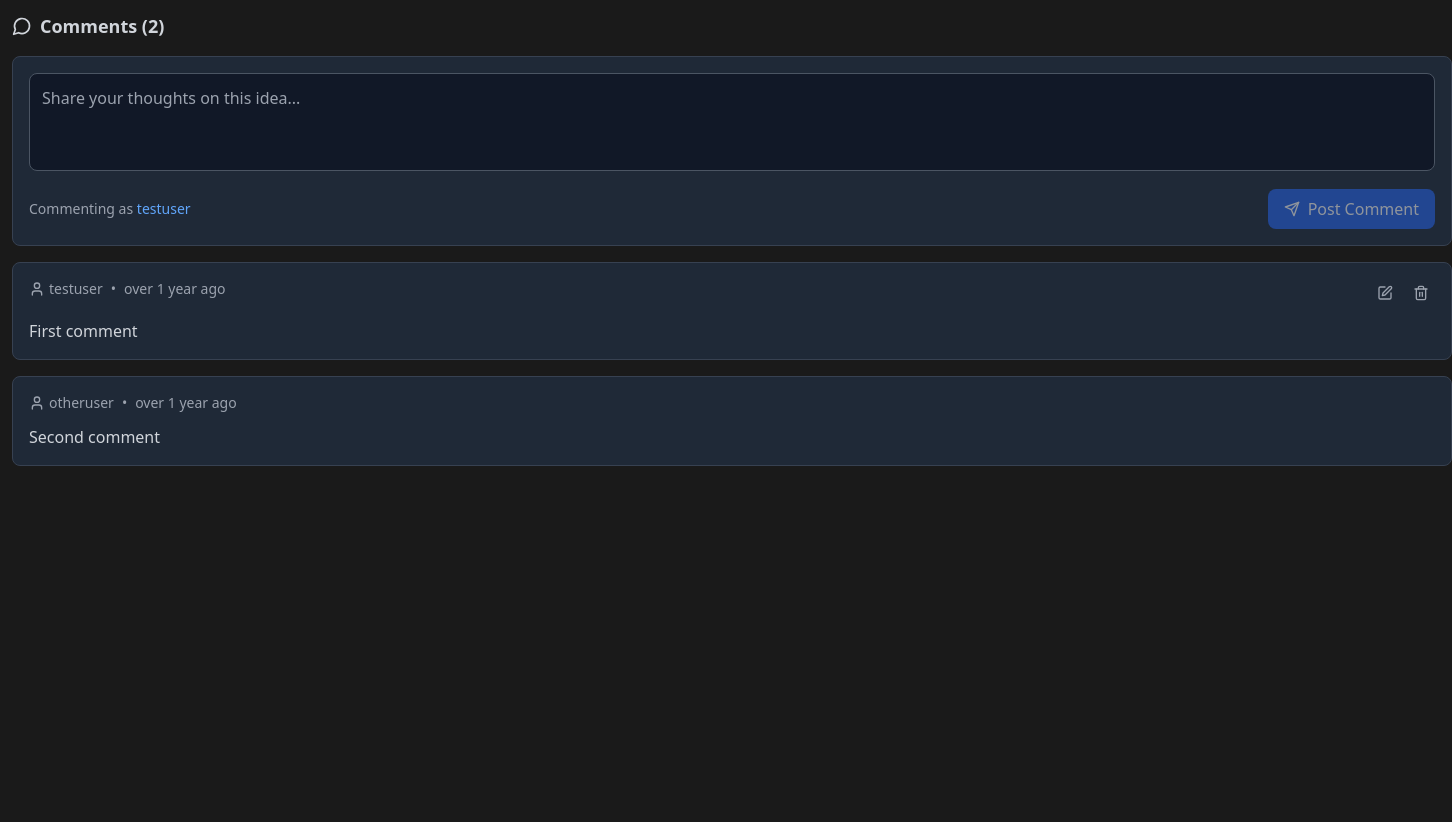
Comments System Integration Tests › should edit a comment successfully
This screenshot has width=1452, height=822.
Expected: the text "First comment" is shown, [29,320,138,342]
# Click edit button on the first comment (user's own comment)
Click the button titled "Edit comment" at (1385, 293), box [1371,279,1399,307]
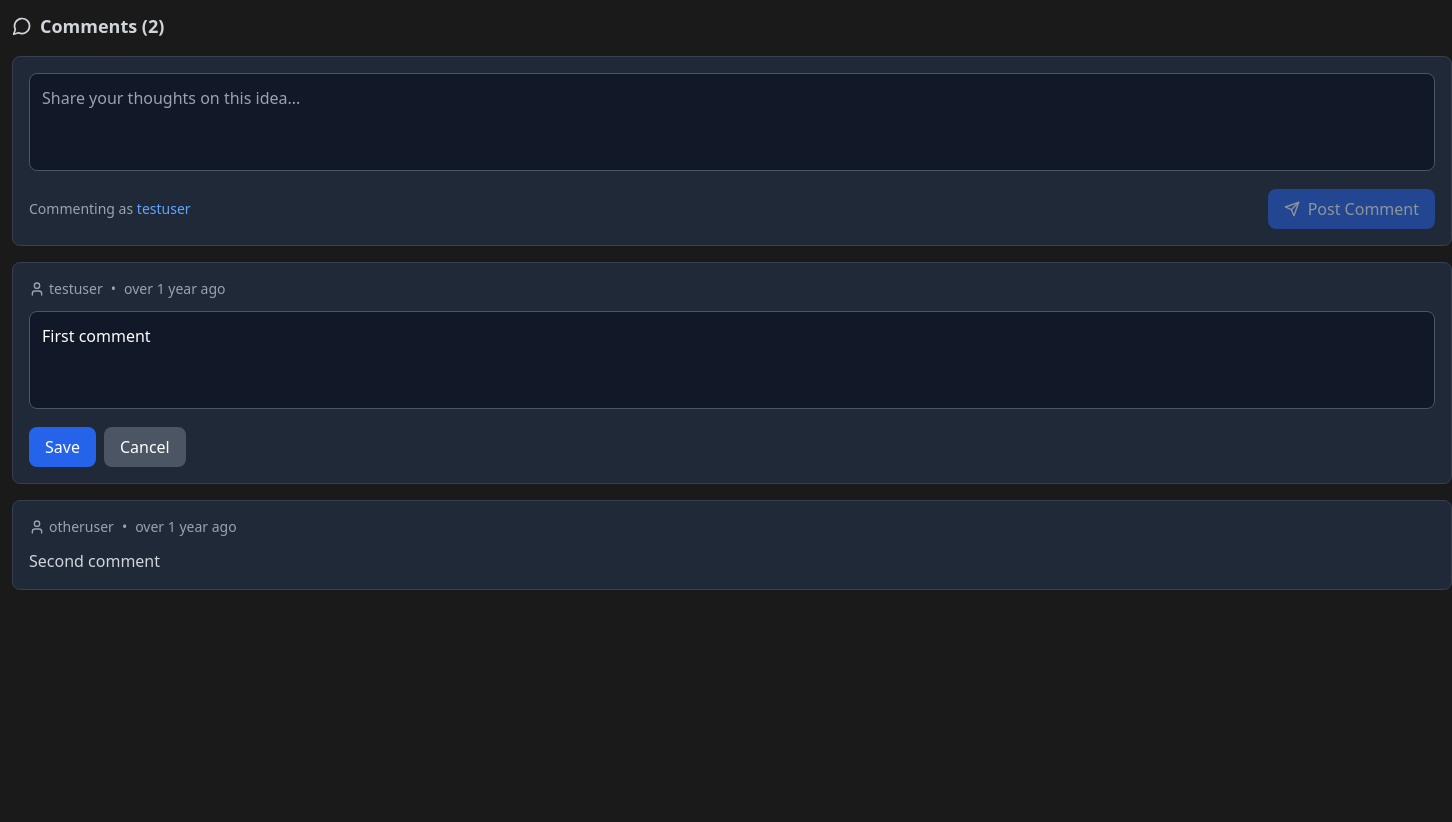
# Find the edit textarea and update content
Replace the text in the text box showing "First comment" with "Updated first comment" at (732, 360), box [29,311,1435,409]
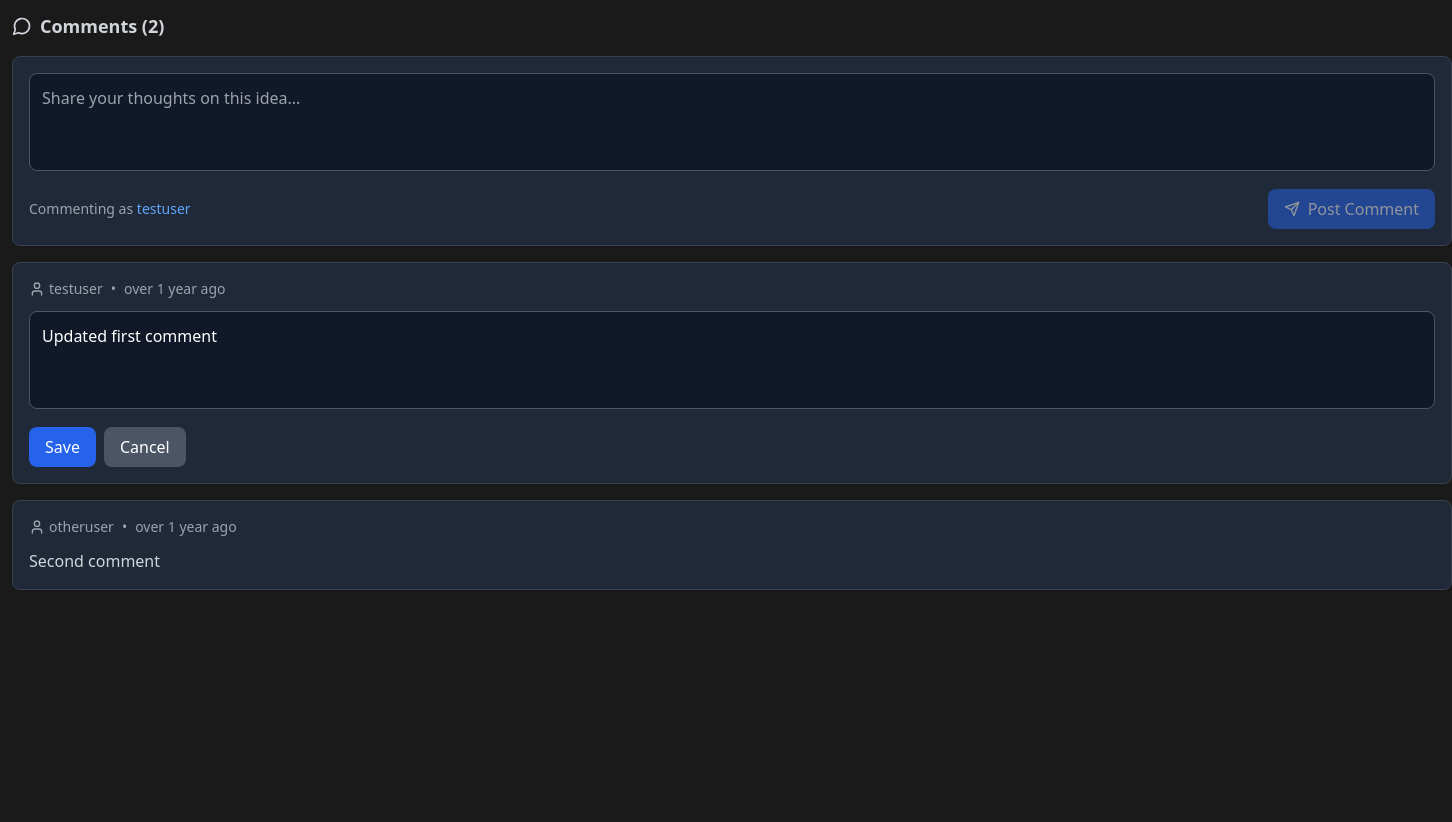
# Save the edit
Click the button "Save" at (62, 447), box [29,427,96,467]
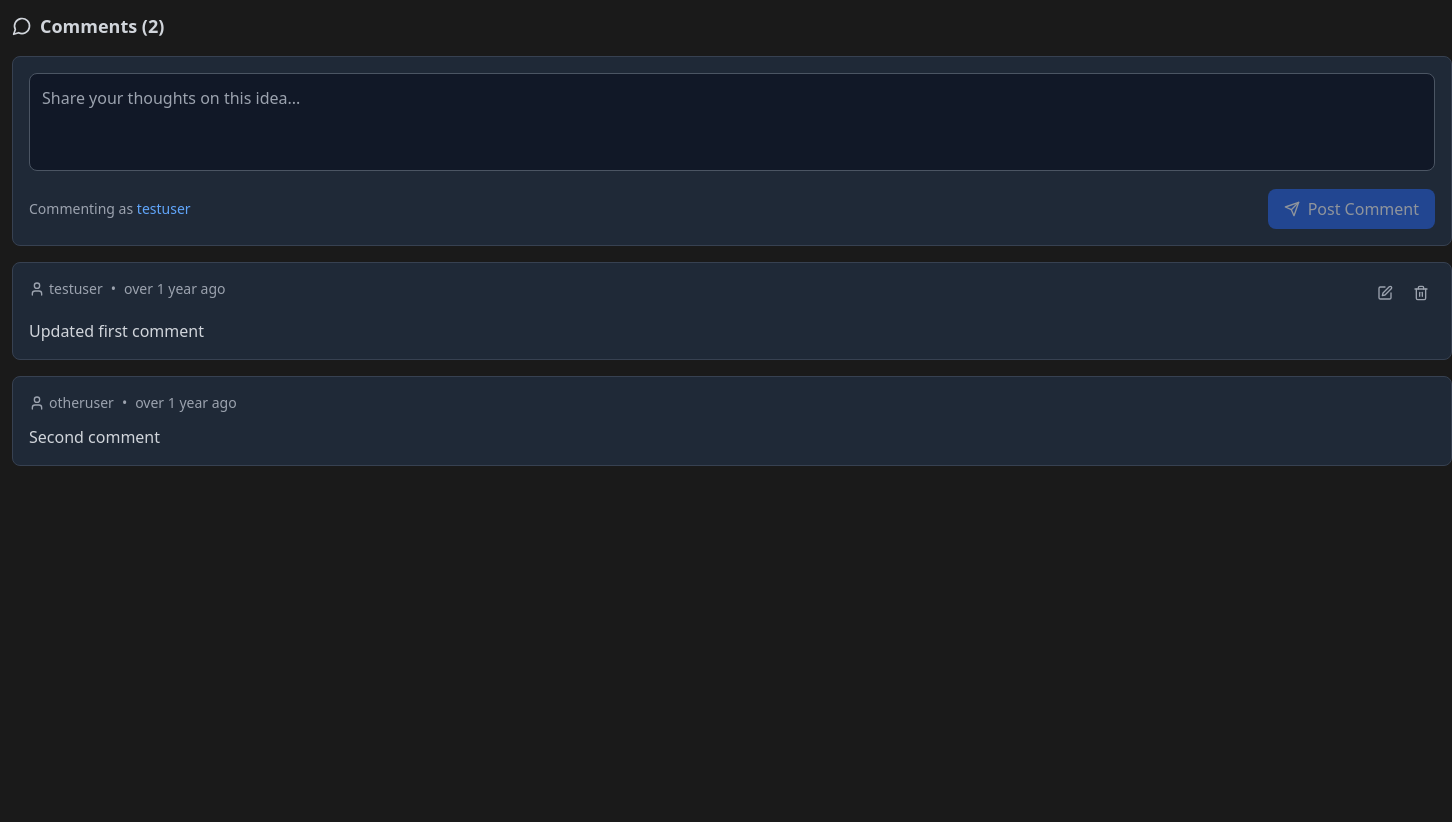
Expected: the text "Updated first comment" is shown, [29,320,204,342]
